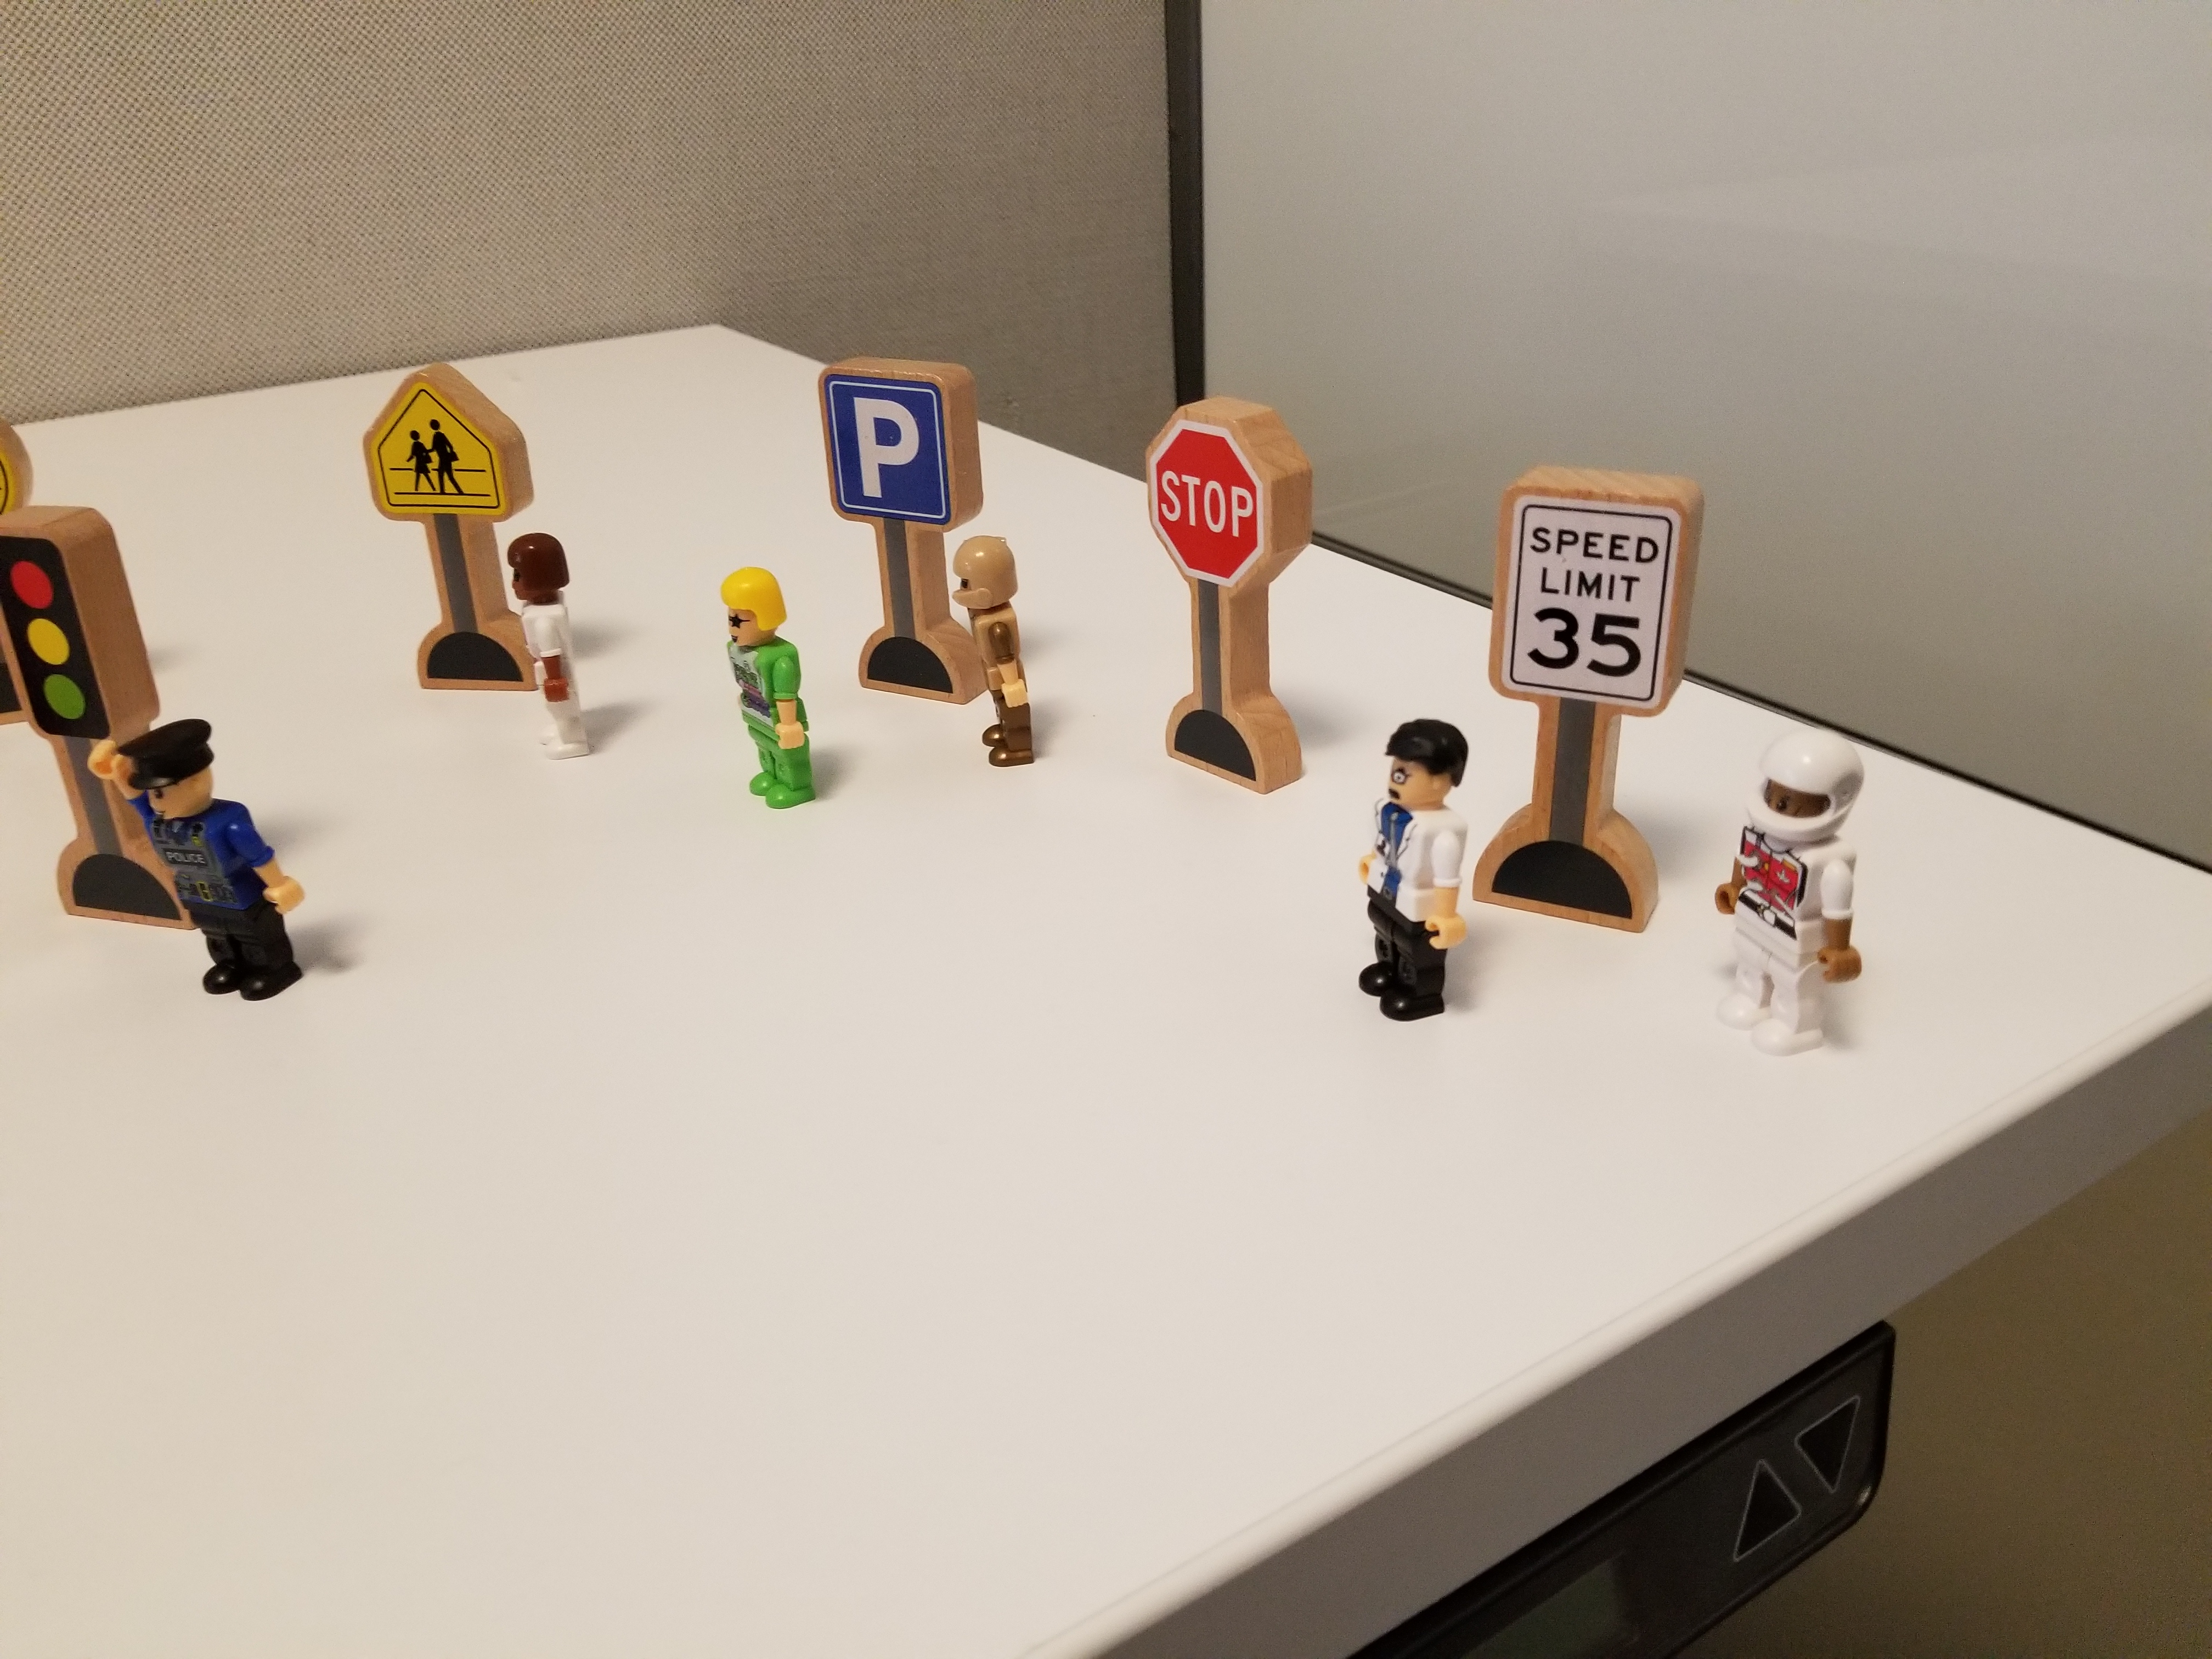Parking: (811, 350, 973, 532)
Pedestrian crossing: (337, 337, 530, 697)
Speed limit 35: (1478, 449, 1691, 943)
Stop: (1116, 374, 1333, 842)
Traffic Light: (3, 515, 163, 756)
person: (89, 716, 357, 1024), (1715, 708, 1897, 1096), (677, 539, 864, 817), (1344, 703, 1478, 1054), (932, 517, 1085, 795), (488, 526, 640, 765)
